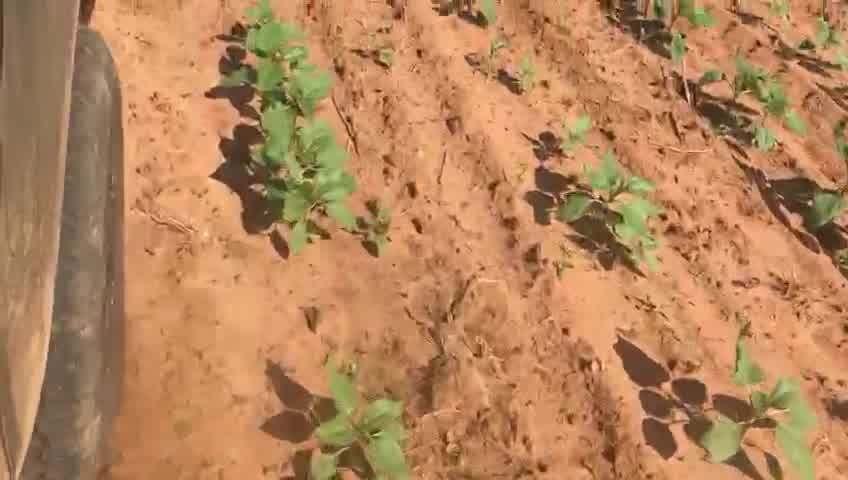sunflower: (244, 128, 393, 256), (702, 335, 827, 476), (206, 15, 346, 134), (553, 147, 670, 275), (308, 361, 417, 478), (742, 82, 808, 162), (698, 53, 768, 121), (487, 28, 541, 95), (556, 104, 604, 160)
